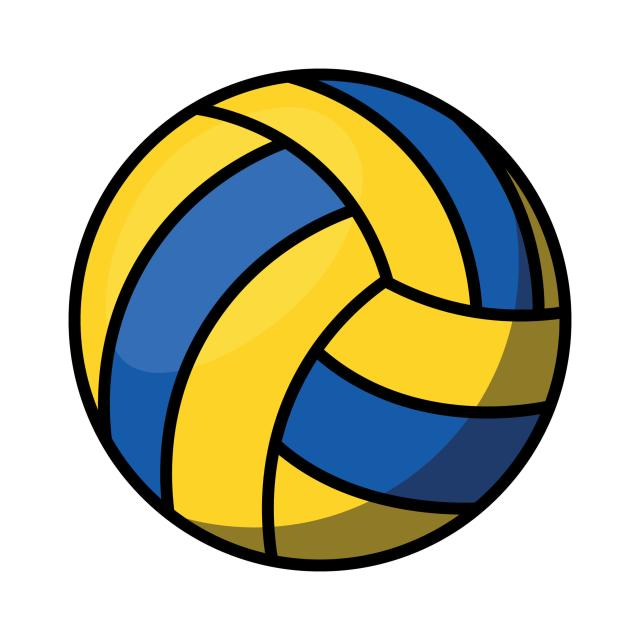Volleyball: (67, 66, 573, 571)
